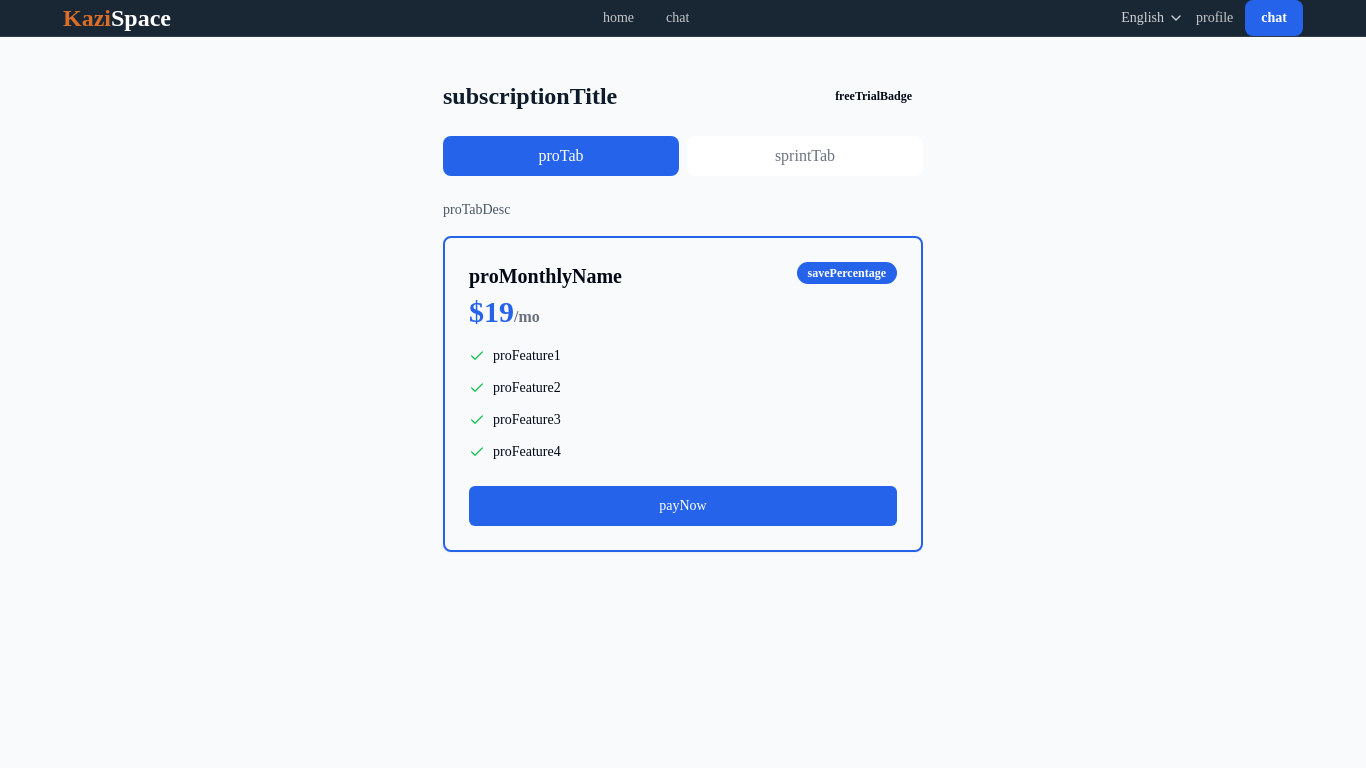
Test: KAZI-659 /subscription page › switches to the Sprint tab on click and shows sprint plans instead
This screenshot has width=1366, height=768.
Click the button "sprintTab": {"x": 805, "y": 156} [687, 136, 923, 176]
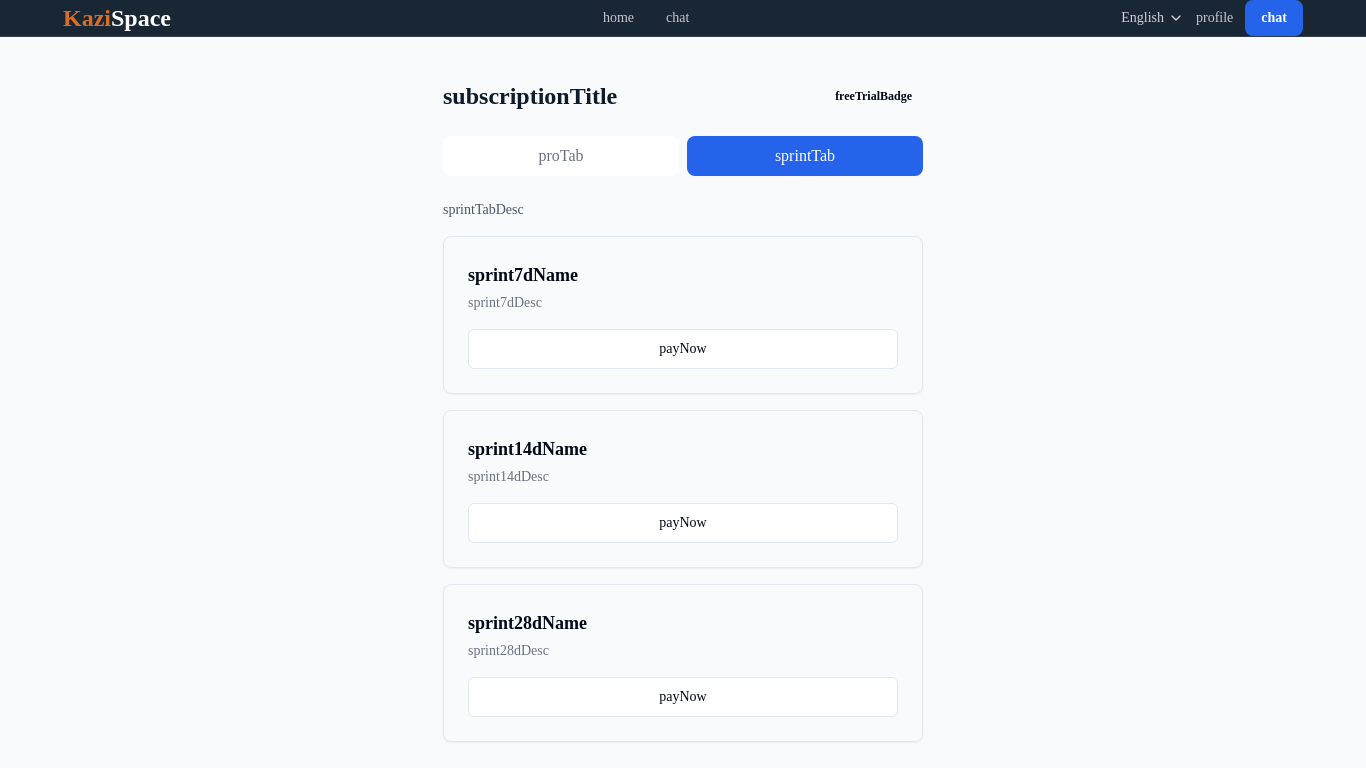
Expected: the text "sprint7dName" is shown, [468, 265, 578, 285]
Expected: the text "sprint14dName" is shown, [468, 439, 587, 459]
Expected: the text "sprint28dName" is shown, [468, 613, 587, 633]
